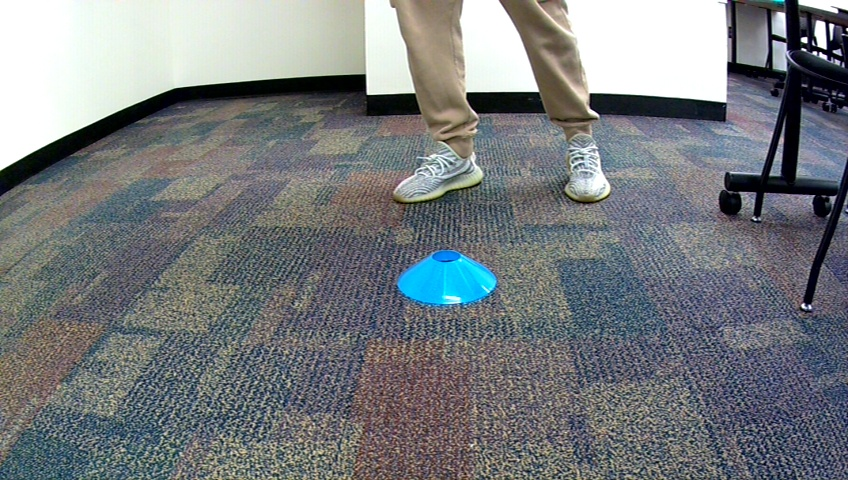cone: (394, 246, 497, 306)
